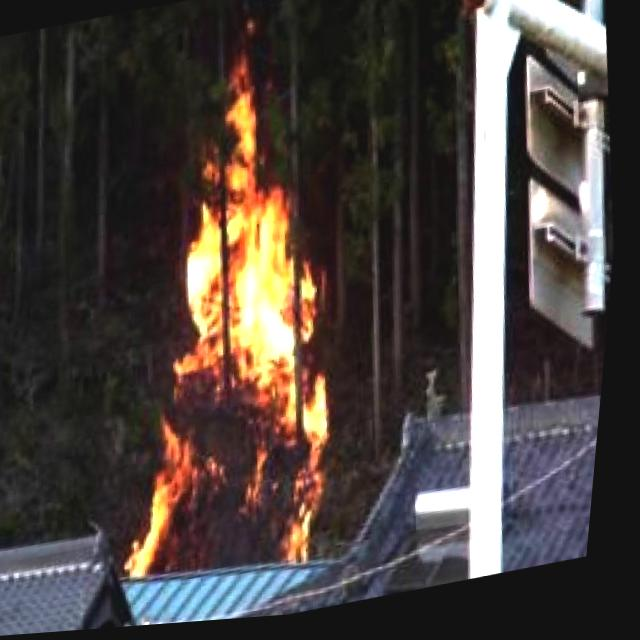helmet: (91, 54, 376, 599)
